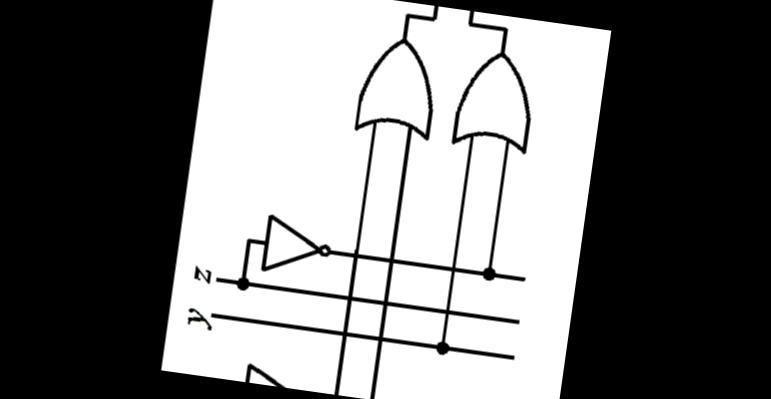not: (250, 201, 343, 289), (232, 350, 324, 392)
or: (439, 32, 550, 170), (338, 20, 449, 155)
